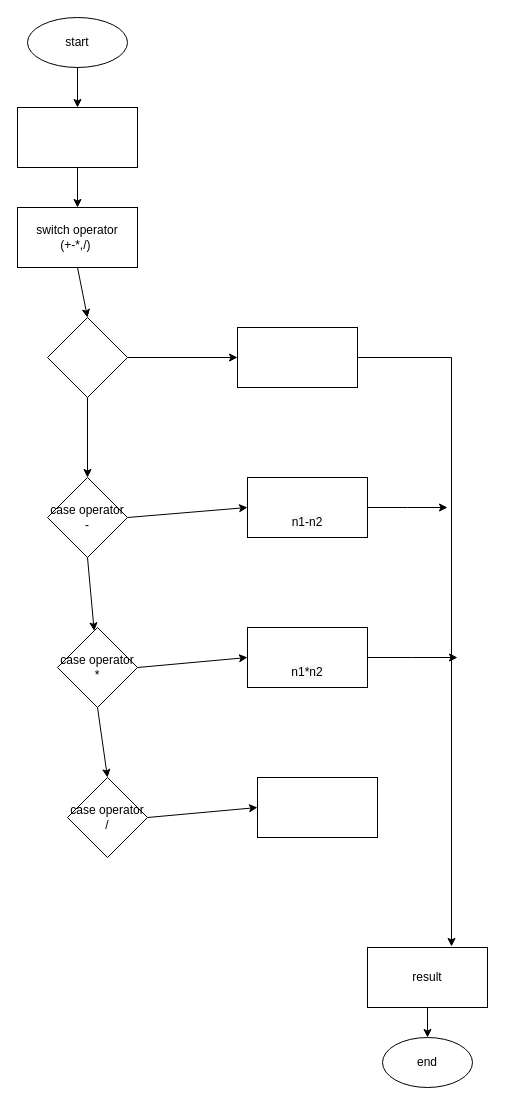
The diagram is 505 pixels wide and 1105 high, and some of its shapes have lost their labels. Each missing label, with the box of its shape:
case operator +: (46, 316, 128, 398)
n1+n2: (236, 326, 358, 388)
n1/n2: (256, 776, 378, 838)
operand n1,n2: (16, 106, 138, 168)
